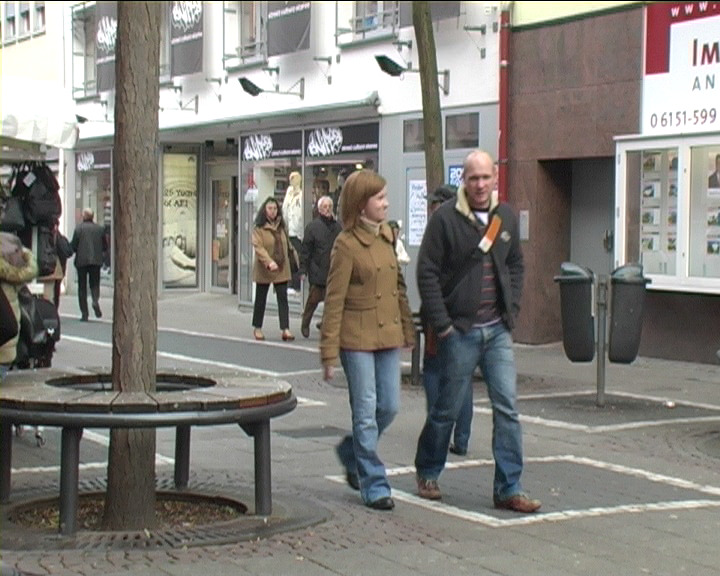deflection: (331, 164, 415, 261)
undeflect: (431, 155, 521, 241)
